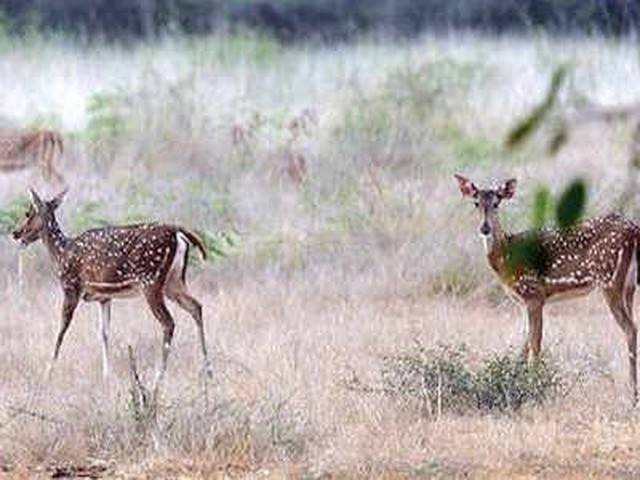deer: (453, 152, 637, 408), (10, 183, 228, 382)
